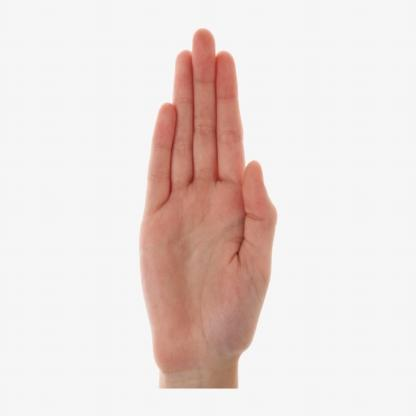palm: (135, 23, 280, 381)
